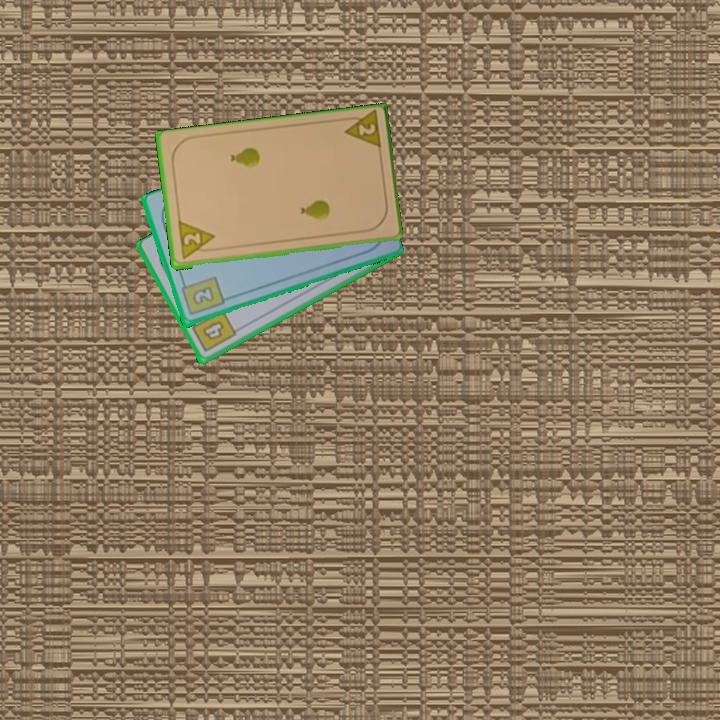2b: (177, 273, 227, 319)
2p: (338, 109, 383, 154), (174, 219, 218, 263)
4b: (187, 307, 239, 355)
